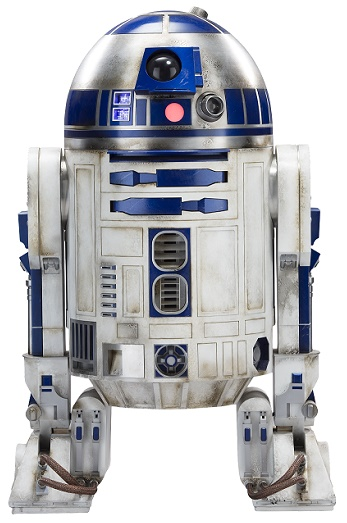r2d2: (20, 3, 336, 512)
